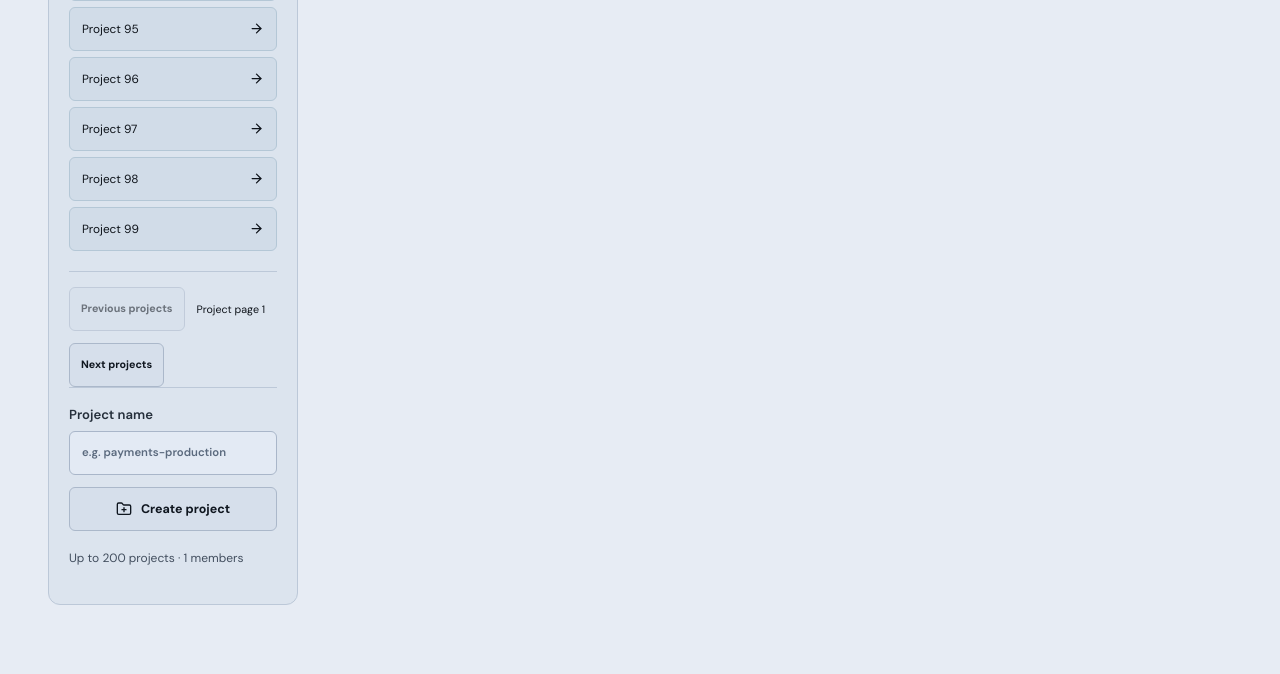
Scenario: project pagination and authorized direct links › restores an off-page direct link without duplicate choices in /history
The width and height of the screenshot is (1280, 674).
(page scrolled)
Click the button "Next projects".
click(117, 365)  # box x1=69 y1=343 x2=164 y2=387
(page scrolled)
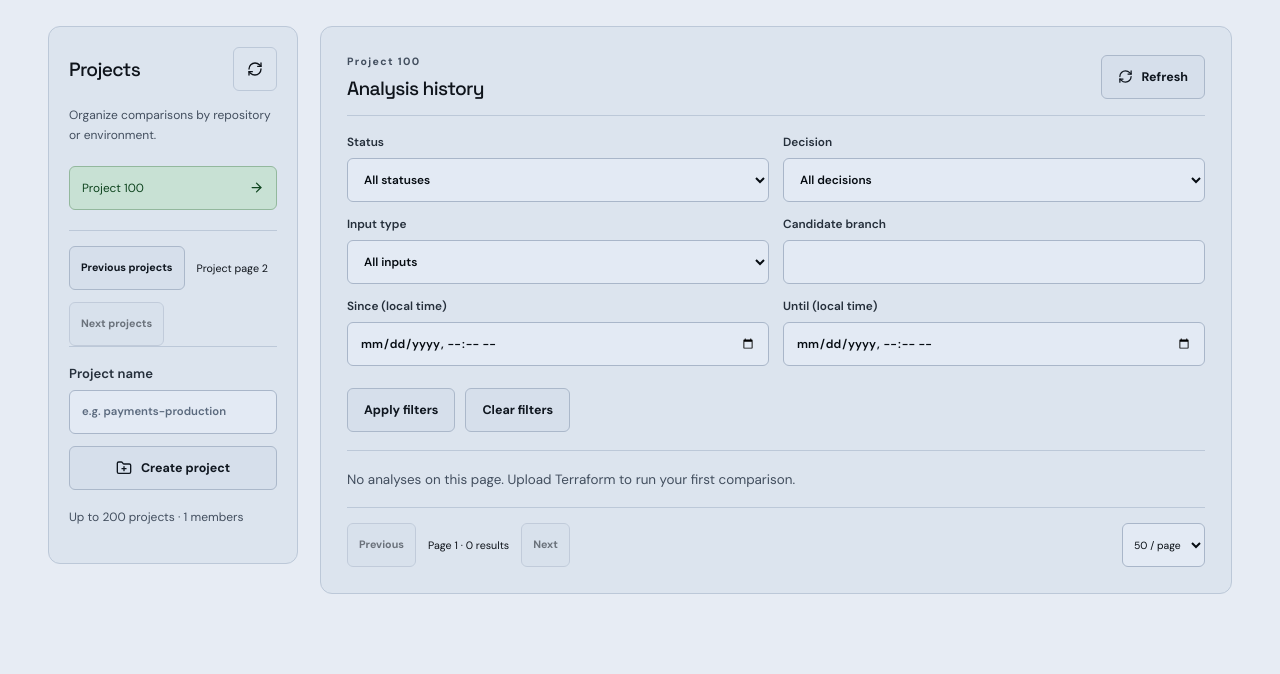
Check: the heading "Analysis history" is shown, box x1=347 y1=77 x2=484 y2=100
Check: the text "Project page 2" is shown, box x1=196 y1=261 x2=268 y2=275
